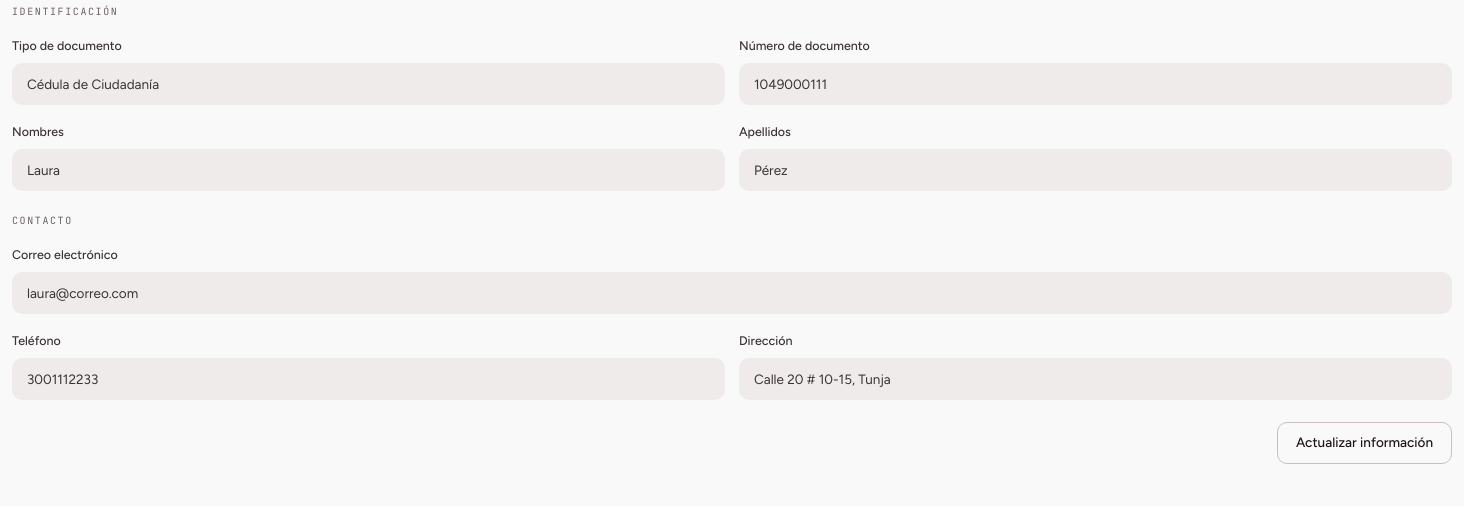
Scenario: CustomerDataForm edit mode › explains the failure when the document types cannot be loaded
Click the button "Actualizar información". click: [1364, 443]
box: [1277,422,1452,464]
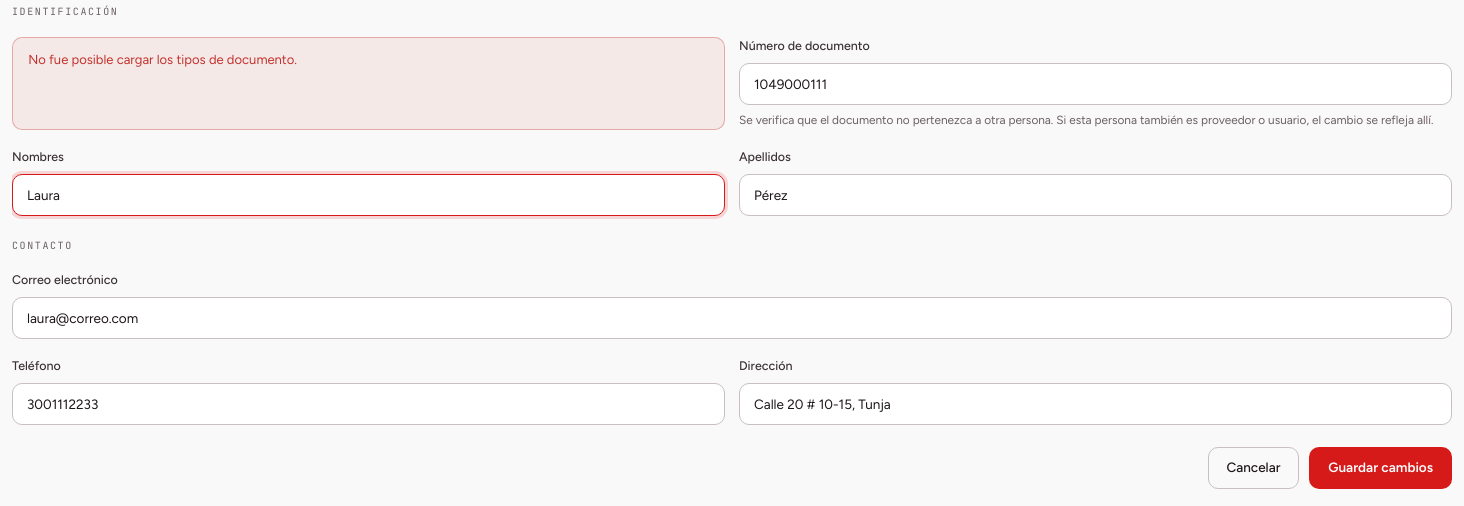
Expected: the message reads "No fue posible cargar los tipos de documento.", [28,52,297,67]
